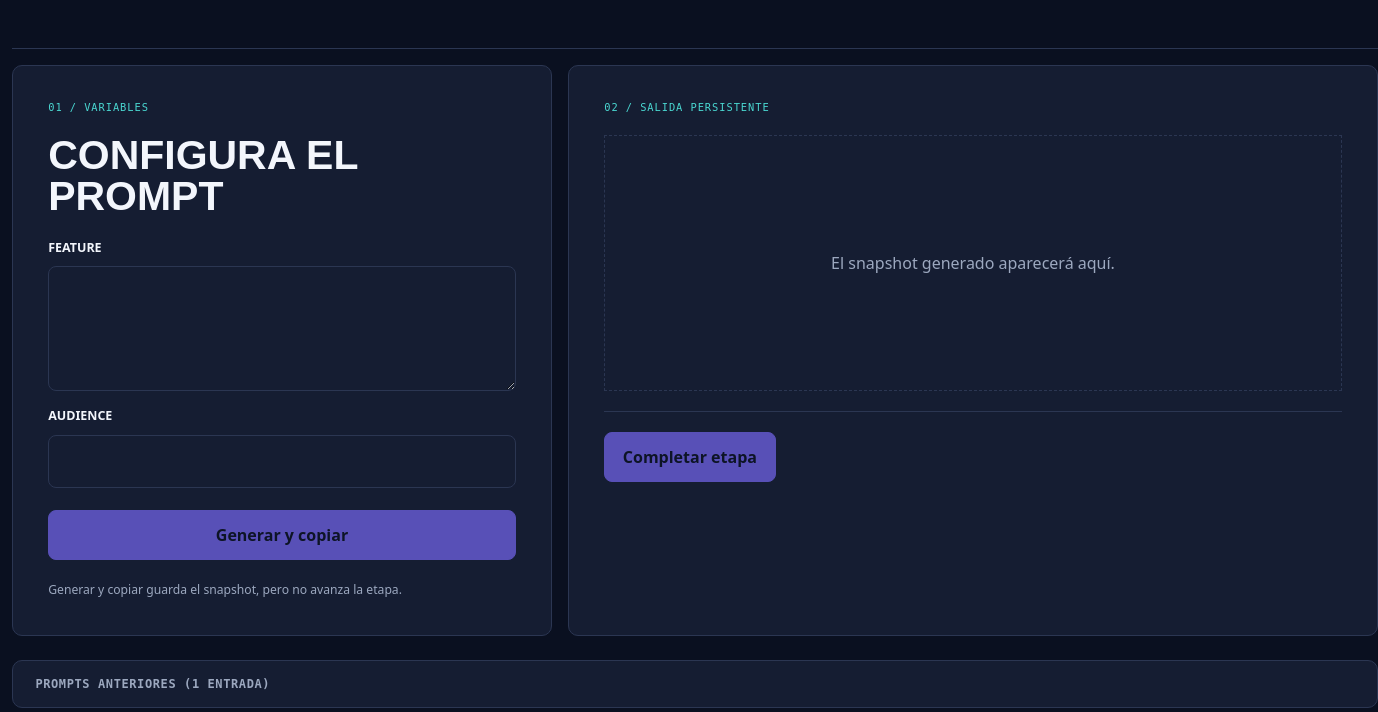
Test case: WorkflowWizard › muestra vista previa en tiempo real al escribir una variable
This screenshot has width=1378, height=712.
(page scrolled)
Type "offline" into the text box labelled "FEATURE" at {"x": 282, "y": 329}, box 48,266 -> 516,391
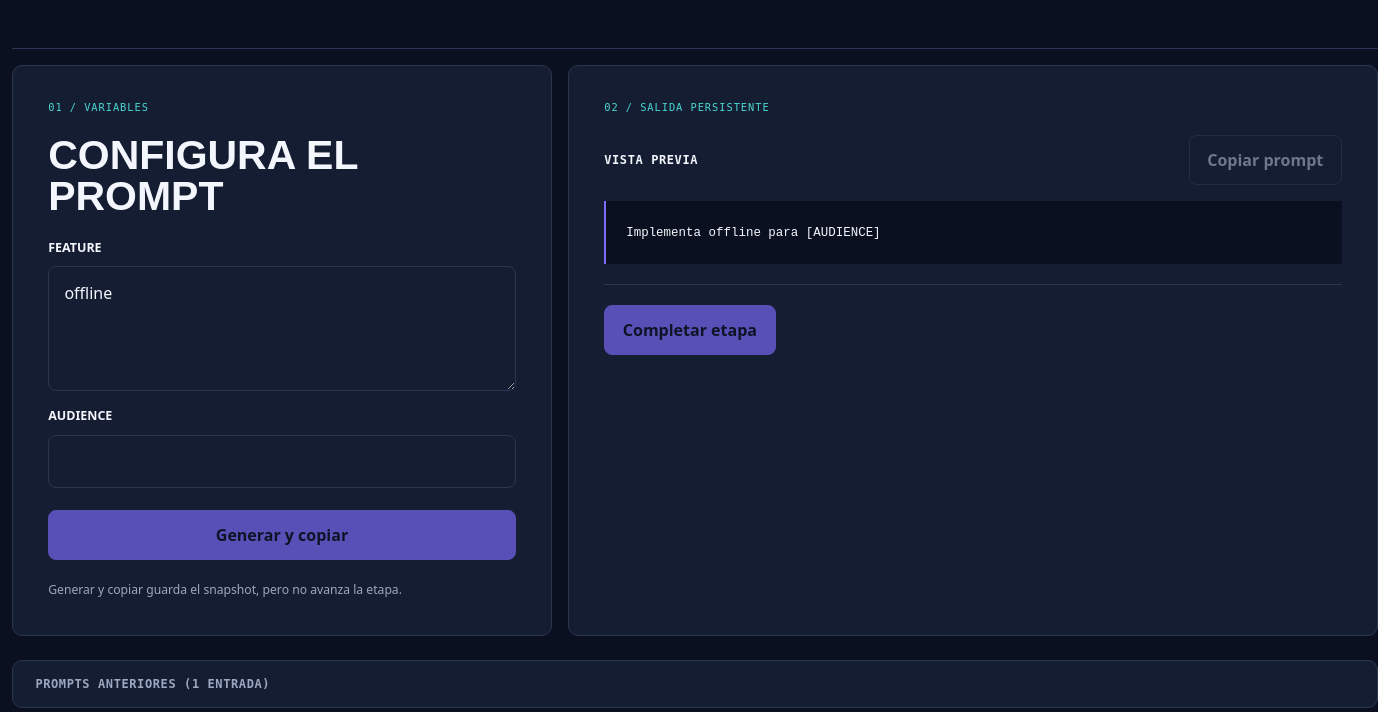
Expected: the heading "Vista previa" is shown, 604,153 -> 698,167
Expected: the text "Implementa offline para [AUDIENCE]" is shown, 626,226 -> 881,240
